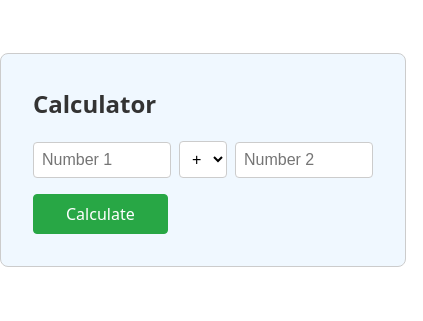
Calculator › performs addition correctly
Type "5" into the number field named "First number" at [102, 160], box [33,142,171,178]
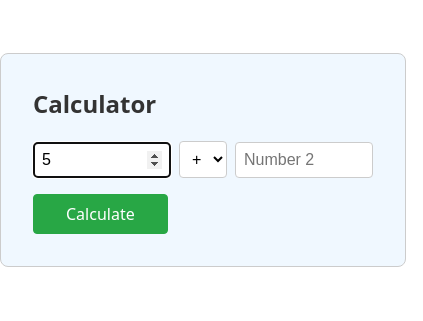
Type "3" into the number field named "Second number" at [304, 160], box [235,142,373,178]
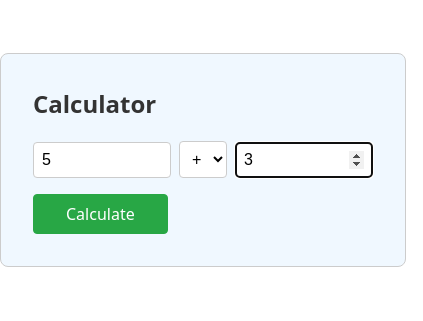
Click the button "Calculate" at [100, 214], box [33,194,168,234]
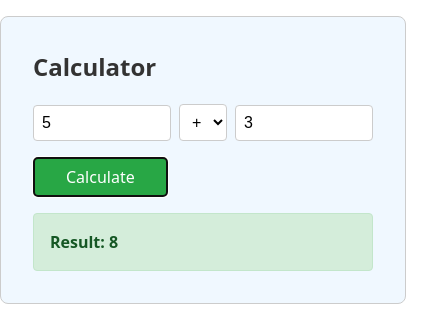
Result: the text with test id "result" reads "Result: 8" at [33,214,373,272]
